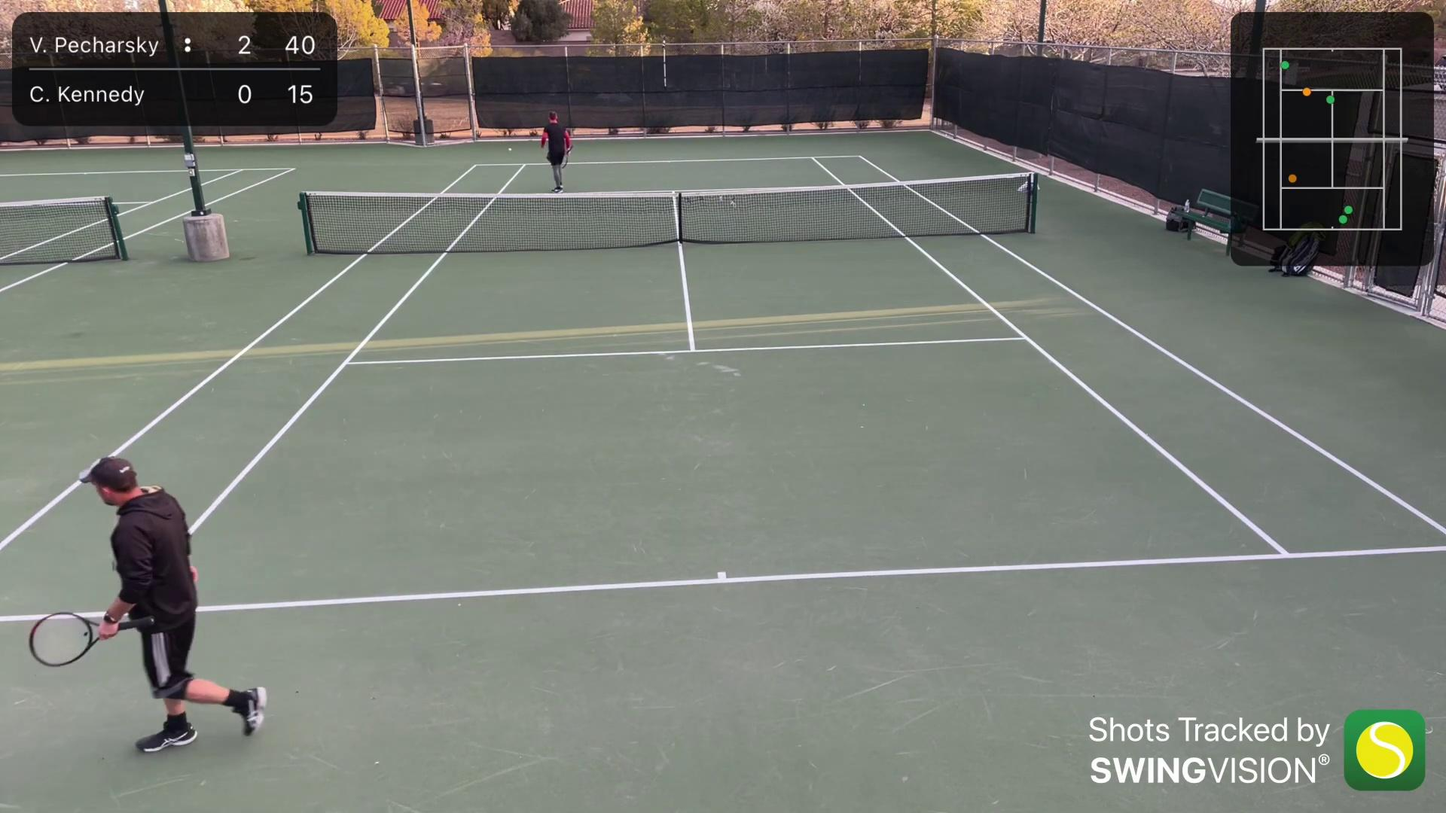ball: (507, 147, 514, 152)
